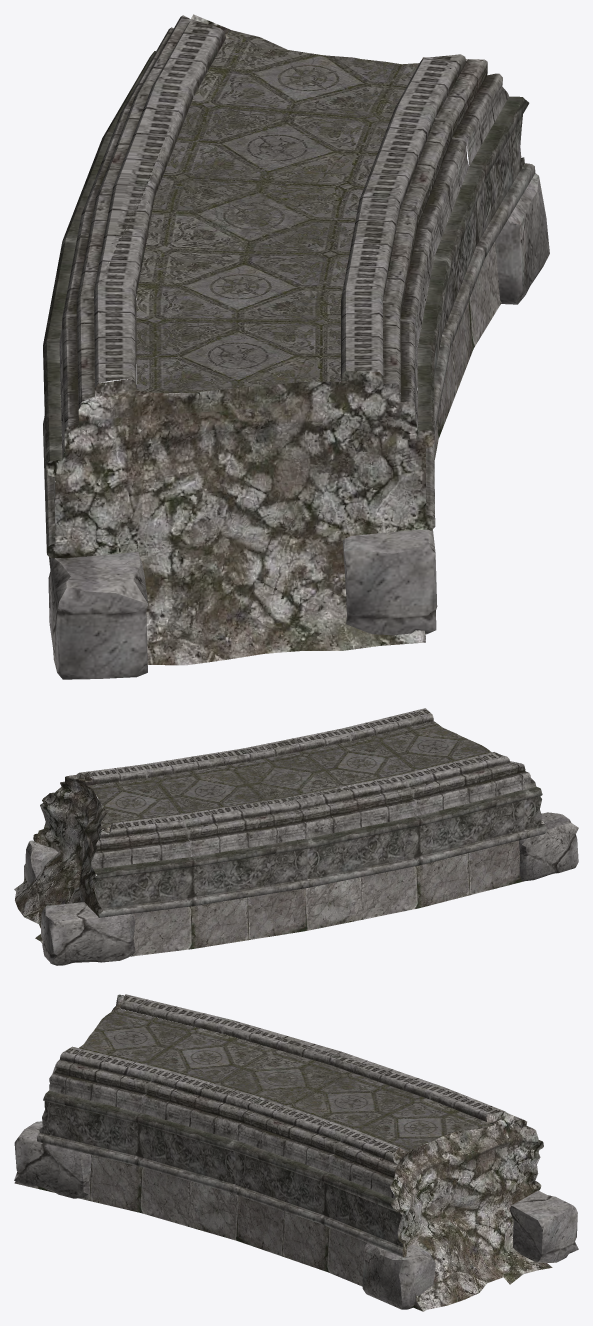
The model's file is eso_ss4_ruins6-transformed.glb.
3 renders of one model, top to bottom at view 1: azimuth 30°, elevation 25°; view 2: azimuth 150°, elevation 25°; view 3: azimuth 270°, elevation 25°, orthographic. The views are drawn at different scales.
Parts seen in each view (by area): view 1: default; view 2: default; view 3: default.
Part boxes in pixels (x1,y1,x2,y2): default: (43,14,549,679); default: (14,708,578,965); default: (14,994,578,1311).
Bounding box in the file's own units: 13.59 × 4.08 × 15.25.
5 materials, 5 textured.
